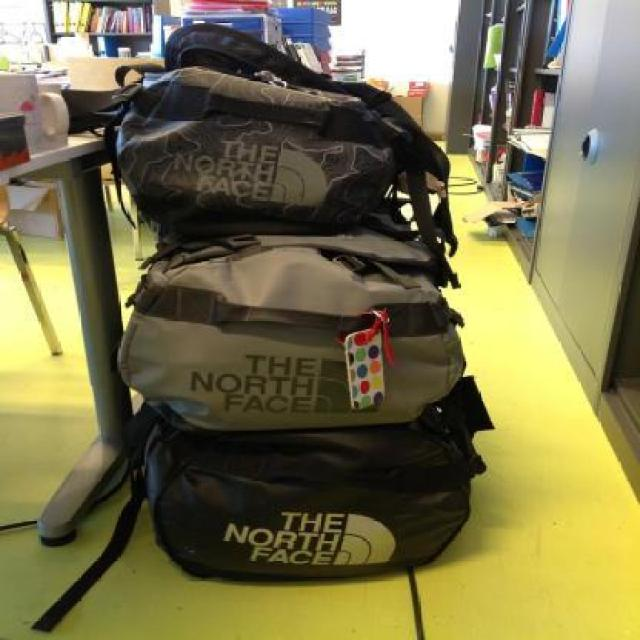backpack: (91, 20, 455, 234), (112, 232, 470, 428), (131, 412, 483, 586)
